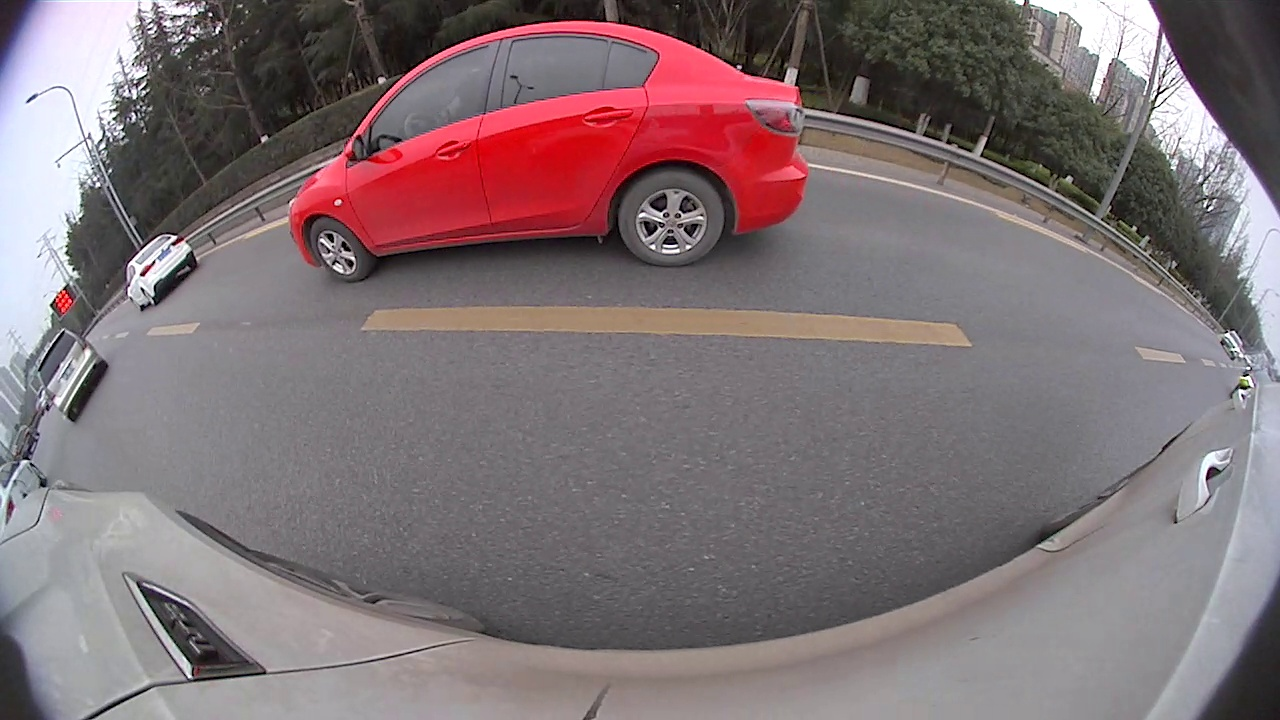bus: (894, 135, 1257, 363), (712, 141, 764, 185)
car: (1, 138, 390, 517), (595, 137, 697, 220), (443, 151, 552, 223), (754, 156, 856, 212)
front: (327, 217, 387, 296), (930, 199, 962, 229), (538, 180, 551, 202)
rear: (20, 392, 125, 522), (1086, 251, 1126, 305), (512, 183, 526, 213), (782, 182, 796, 205)
